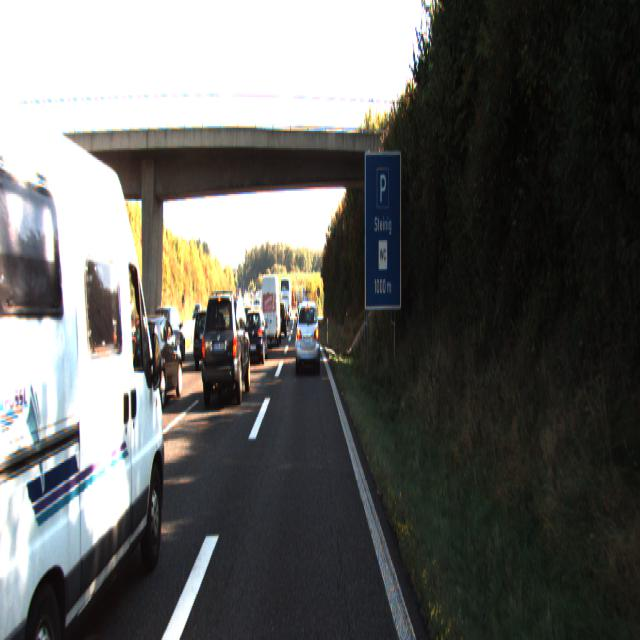Car: (0, 59, 174, 639), (200, 288, 251, 408), (129, 312, 184, 411), (152, 309, 187, 370), (195, 308, 227, 369), (295, 298, 320, 374), (260, 274, 281, 346), (243, 306, 268, 364), (274, 301, 287, 339)
